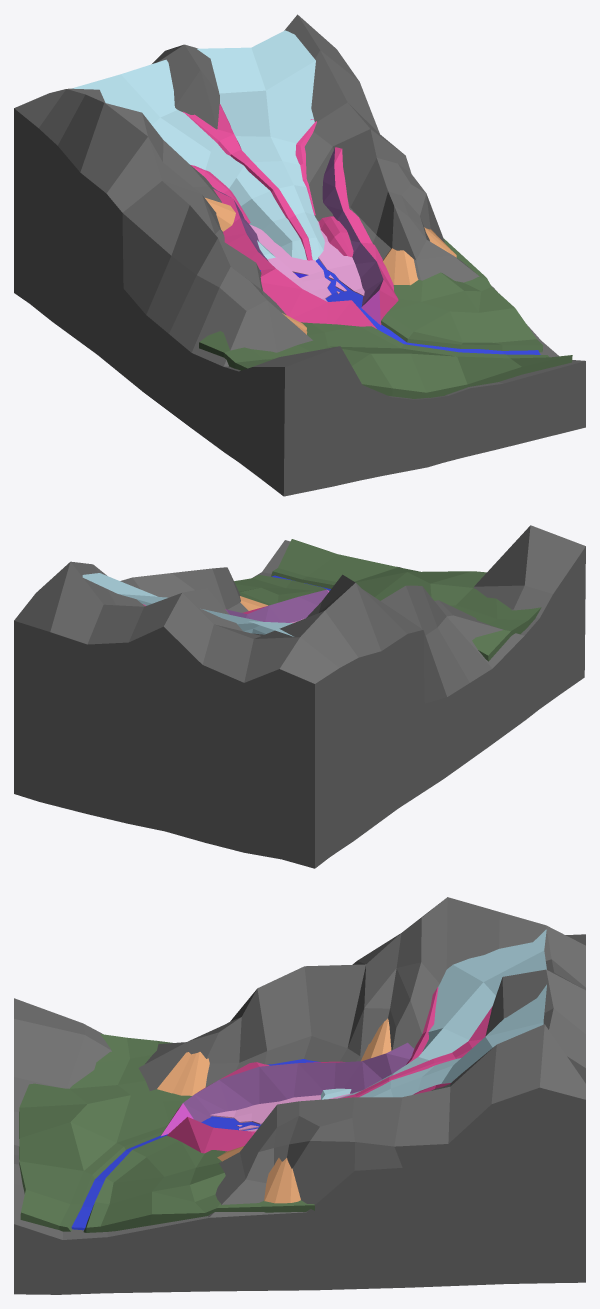
Rendered from BlockDiagram.gltf.
The picture shows the model from 3 angles, top to bottom: view 1: azimuth 30°, elevation 25°; view 2: azimuth 150°, elevation 25°; view 3: azimuth 270°, elevation 25°; orthographic projection. The views are drawn at different scales.
Parts seen in each view (by area): view 1: Rock, Glacier, Ground1.001, Moräne.001, GrundMoräne.001, MittelMoräne, Wasser, Ufermoräne, Schuttfächer.003, Rundhöcker; view 2: Rock, Ground1.001, Glacier, Moräne.001; view 3: Rock, Ground1.001, Glacier, Moräne.001, Schuttfächer.002, Wasser, Schuttfächer.1, MittelMoräne, GrundMoräne.001, Ufermoräne, Schuttfächer.
Boxes of the visible parts, x1=… form: Rock: x1=14, y1=14, x2=585, y2=496; Glacier: x1=72, y1=30, x2=324, y2=260; Ground1.001: x1=199, y1=238, x2=572, y2=398; Moräne.001: x1=213, y1=147, x2=398, y2=328; GrundMoräne.001: x1=249, y1=221, x2=364, y2=301; MittelMoräne: x1=183, y1=104, x2=312, y2=260; Wasser: x1=316, y1=259, x2=540, y2=354; Ufermoräne: x1=191, y1=119, x2=316, y2=223; Schuttfächer.003: x1=383, y1=248, x2=418, y2=285; Rundhöcker: x1=319, y1=216, x2=353, y2=256; Rock: x1=14, y1=525, x2=585, y2=868; Ground1.001: x1=234, y1=539, x2=541, y2=661; Glacier: x1=82, y1=573, x2=293, y2=636; Moräne.001: x1=225, y1=589, x2=329, y2=622; Rock: x1=14, y1=897, x2=585, y2=1294; Ground1.001: x1=19, y1=1034, x2=314, y2=1232; Glacier: x1=339, y1=929, x2=546, y2=1098; Moräne.001: x1=161, y1=1042, x2=414, y2=1153; Schuttfächer.002: x1=157, y1=1052, x2=209, y2=1095; Wasser: x1=71, y1=1116, x2=261, y2=1230; Schuttfächer.1: x1=264, y1=1158, x2=300, y2=1203; MittelMoräne: x1=340, y1=1006, x2=492, y2=1098; GrundMoräne.001: x1=210, y1=1093, x2=351, y2=1131; Ufermoräne: x1=406, y1=987, x2=450, y2=1094; Schuttfächer: x1=361, y1=1018, x2=391, y2=1061.
Size of the model in its own units: 1.92 by 1.48 by 2.98.
